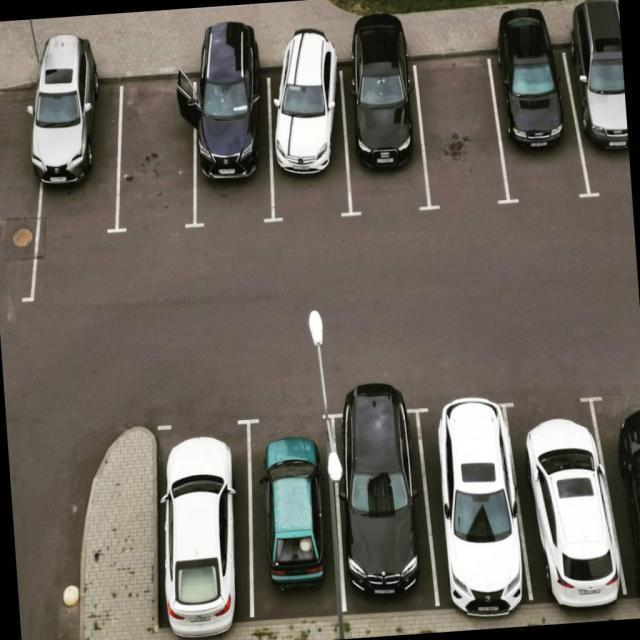space-empty: (108, 71, 199, 236), (417, 45, 503, 210)
space-occupied: (144, 410, 257, 634), (512, 379, 619, 612), (240, 407, 348, 627), (330, 395, 433, 615), (424, 390, 521, 613), (493, 35, 584, 203), (37, 67, 122, 241), (262, 63, 351, 226), (183, 66, 272, 229), (338, 60, 426, 220), (590, 390, 640, 610), (571, 29, 632, 196)
